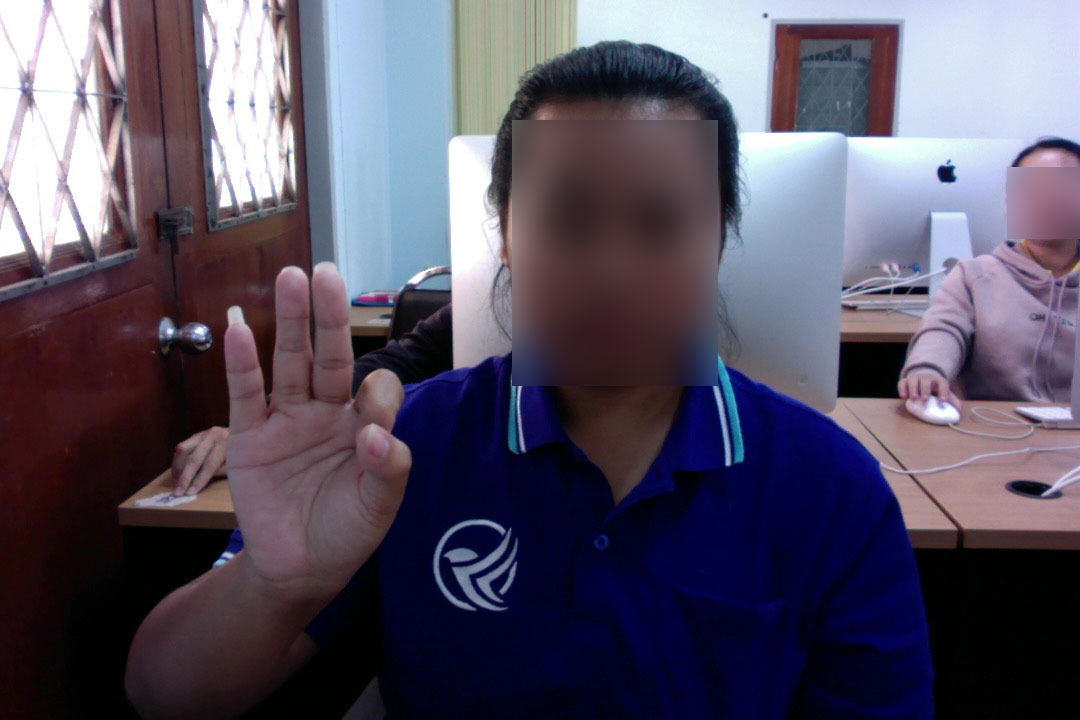for: (214, 242, 424, 598)
